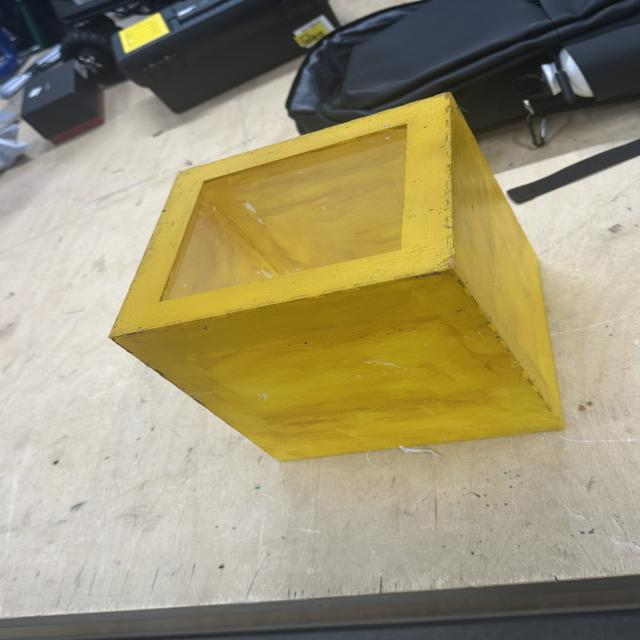yellow_bin: (108, 92, 565, 462)
